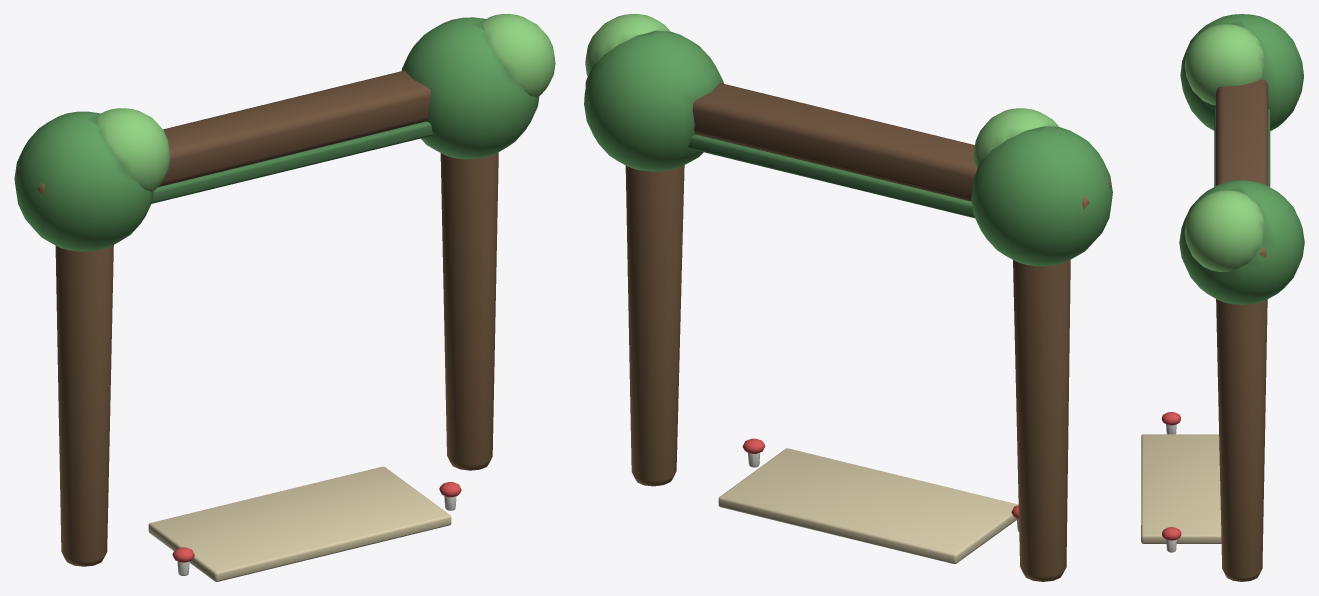
3 renders of one model, left to right at view 1: azimuth 30°, elevation 25°; view 2: azimuth 150°, elevation 25°; view 3: azimuth 270°, elevation 25°, orthographic. The views are drawn at different scales.
Visible parts, largest first — view 1: gate_0826da64; view 2: gate_0826da64; view 3: gate_0826da64.
Part boxes in pixels (left/top/right/bottom): gate_0826da64: left=14, top=14, right=555, bottom=581; gate_0826da64: left=584, top=14, right=1112, bottom=581; gate_0826da64: left=1141, top=14, right=1304, bottom=581.
Size of the model in its own units: 5.24 by 4.33 by 1.62.
